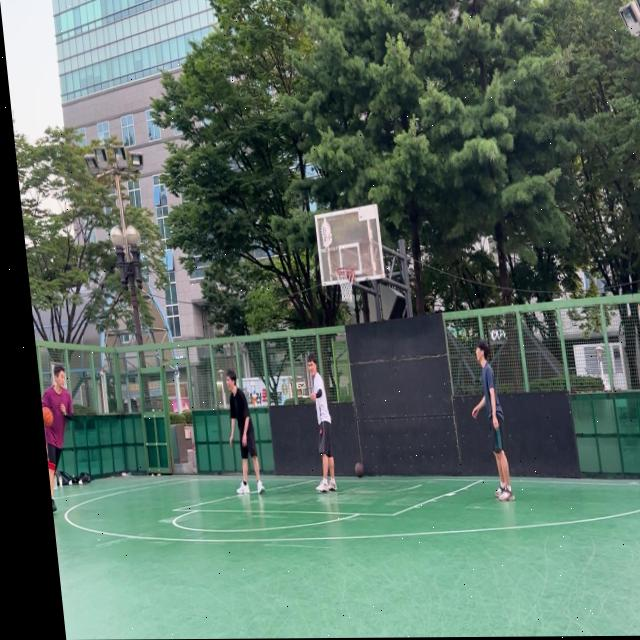basketball: (42, 406, 53, 427), (354, 461, 365, 478)
hoop: (335, 266, 358, 303)
